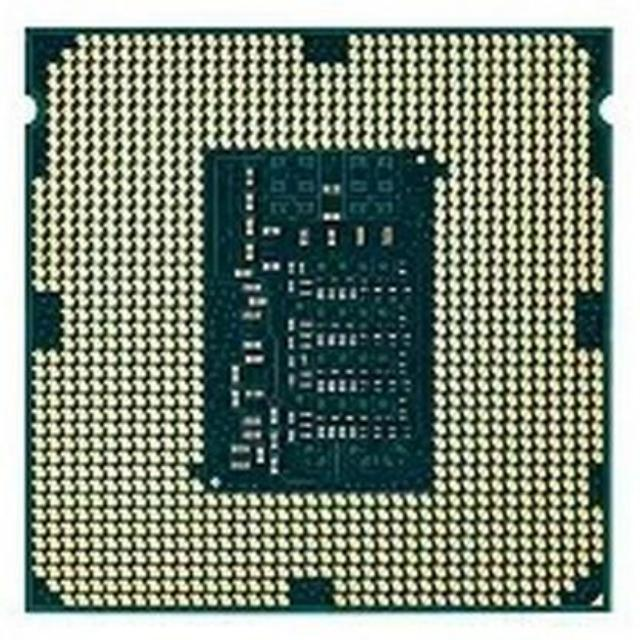CPU: (22, 21, 613, 614)
